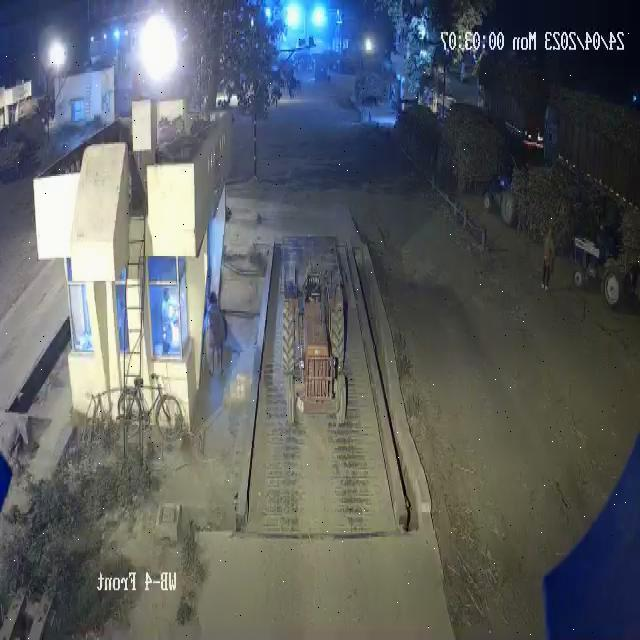Tratores - v5 YOLO V8L 2024-11-13: (284, 280, 350, 434), (566, 216, 624, 305), (478, 166, 522, 216)
